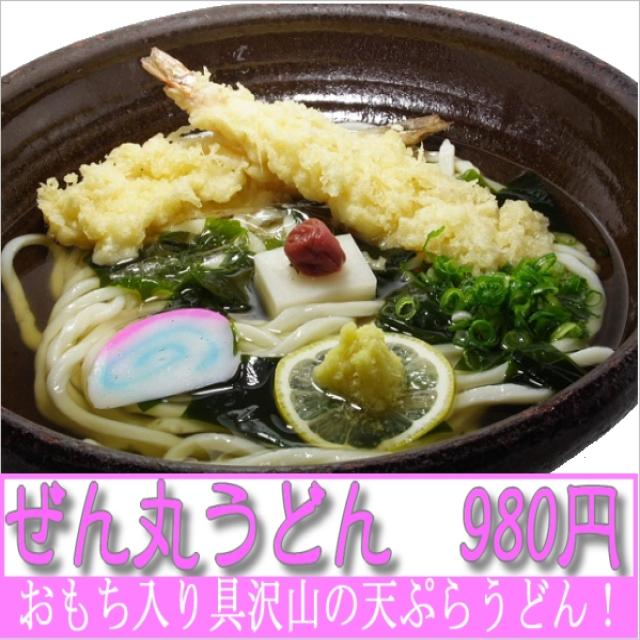面条主食: (0, 57, 626, 456)
